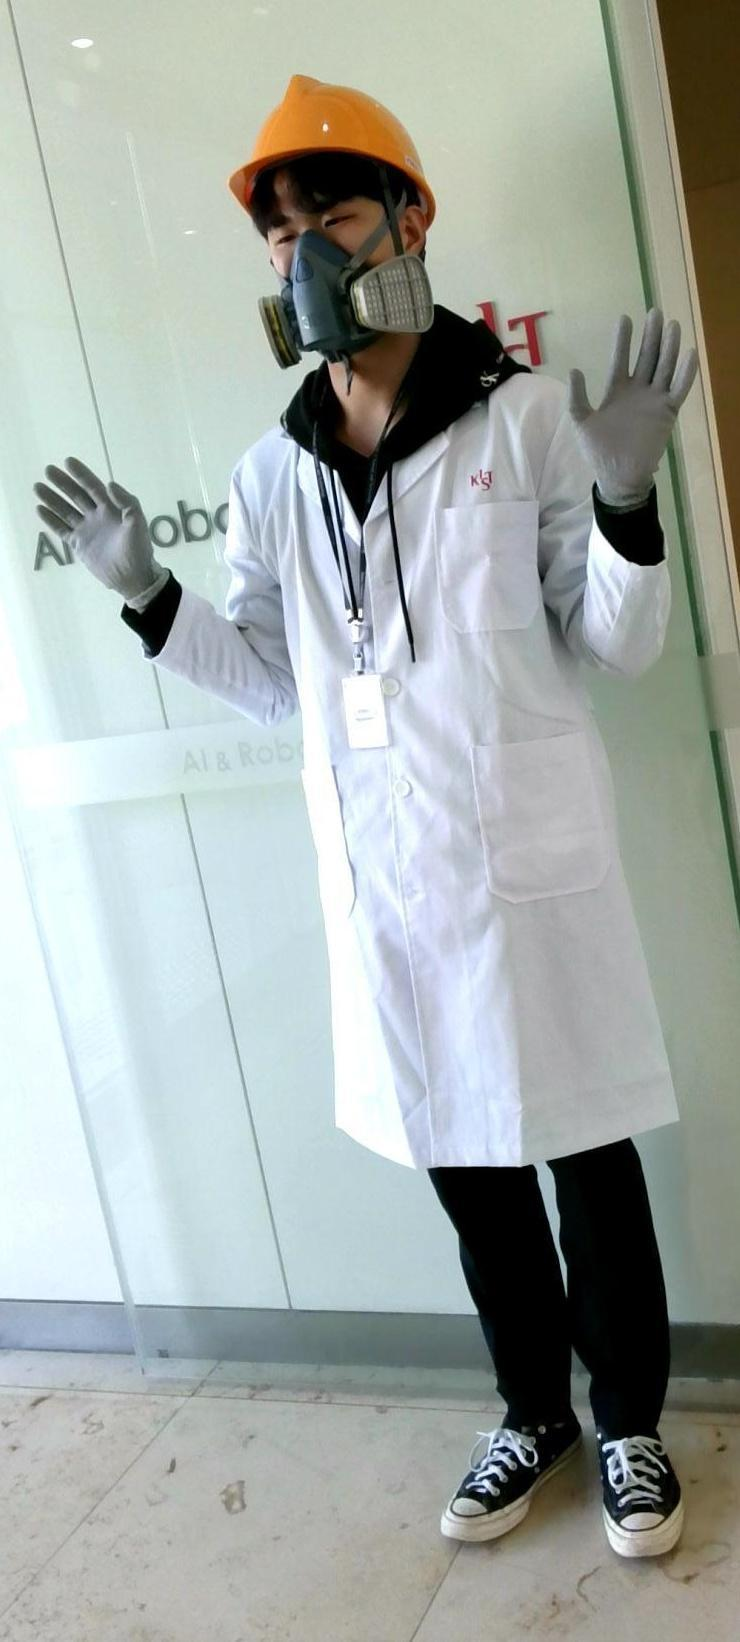lab_coat: (265, 440, 561, 1180)
